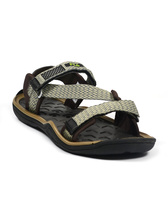shoes: (14, 60, 159, 161)
